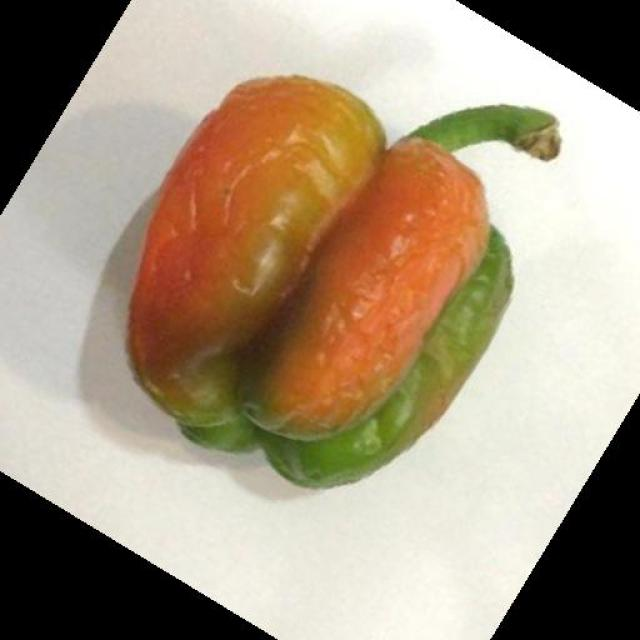Stale_Capsicum: (146, 61, 458, 515)
